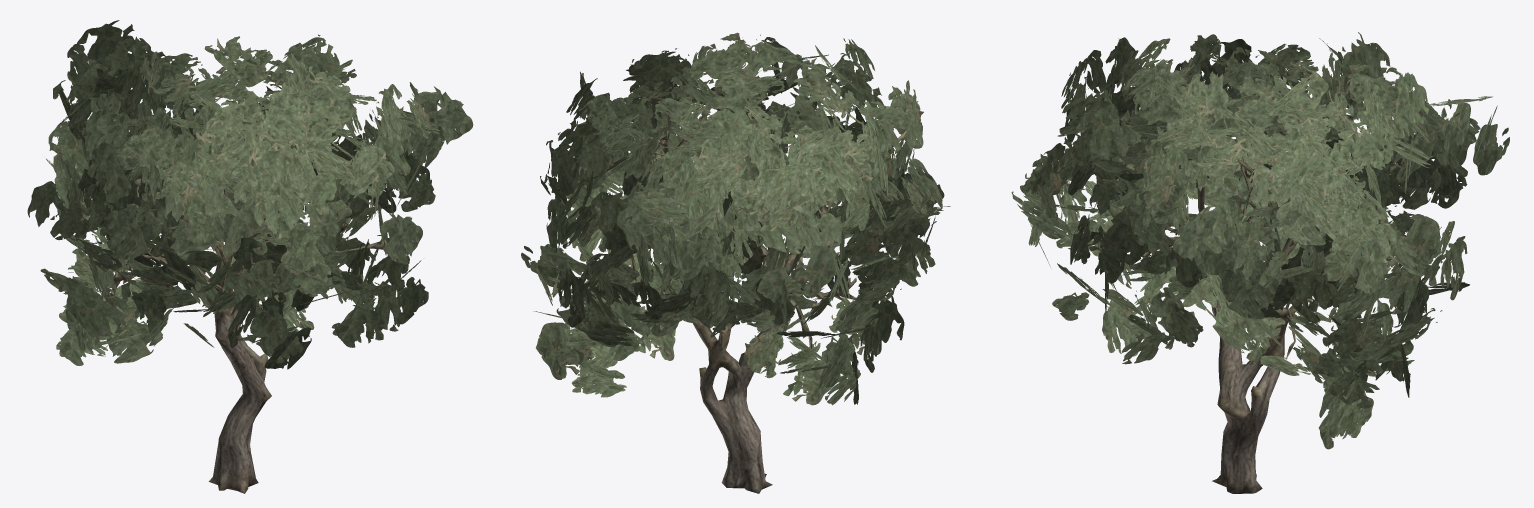
File: plant_ghaf.glb
The picture shows the model from 3 angles, left to right: view 1: azimuth 30°, elevation 25°; view 2: azimuth 150°, elevation 25°; view 3: azimuth 270°, elevation 25°; orthographic projection. The views are drawn at different scales.
Parts seen in each view (by area): view 1: leaf_ghaf, bark_ghaf; view 2: leaf_ghaf, bark_ghaf; view 3: leaf_ghaf, bark_ghaf.
Part boxes in pixels (x1,y1,x2,y2): leaf_ghaf: (27,20,473,369); bark_ghaf: (107,129,386,493); leaf_ghaf: (521,32,950,405); bark_ghaf: (631,108,906,493); leaf_ghaf: (1011,32,1509,449); bark_ghaf: (1117,143,1358,493).
Size of the model in its own units: 6.64 by 7.18 by 7.47.
2 materials, 2 textured.
